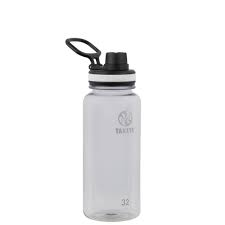available: (73, 37, 151, 225)
